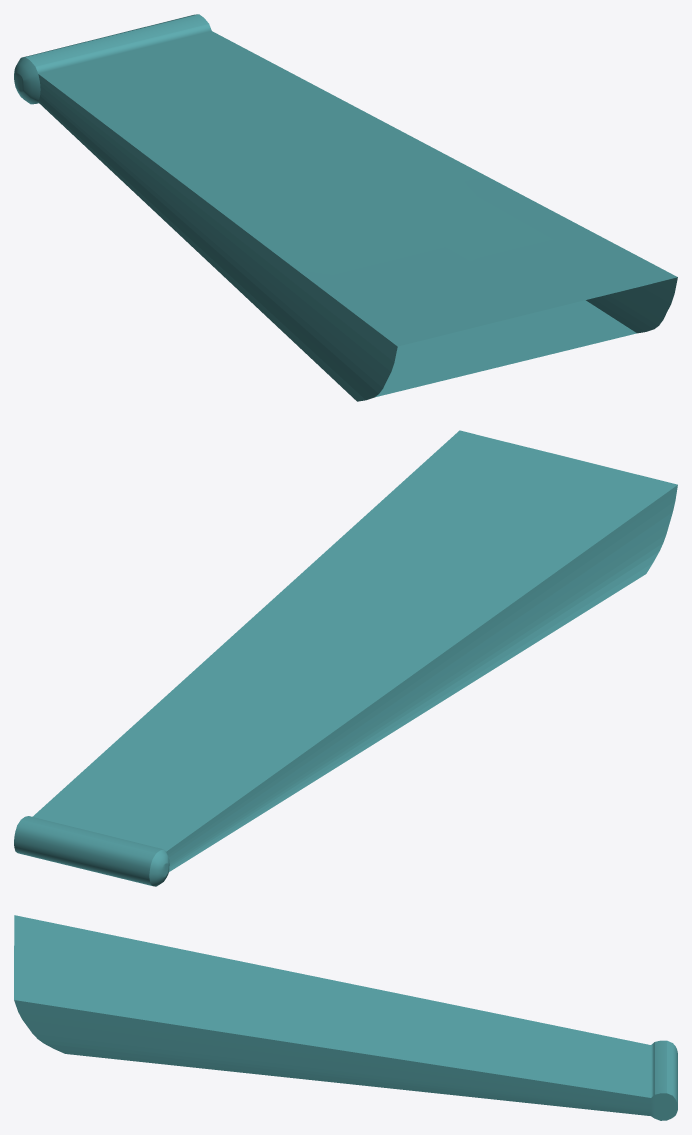
The model's file is Ship_Wing_01.fbx.
The picture shows the model from 3 angles, top to bottom: view 1: azimuth 30°, elevation 25°; view 2: azimuth 150°, elevation 25°; view 3: azimuth 270°, elevation 25°; orthographic projection. The views are drawn at different scales.
Parts seen in each view (by area): view 1: Ship_Wing_01; view 2: Ship_Wing_01; view 3: Ship_Wing_01.
Boxes of the visible parts, <box> form: Ship_Wing_01: <box>14,14,677,401</box>; Ship_Wing_01: <box>14,430,677,886</box>; Ship_Wing_01: <box>14,915,677,1120</box>.
Size of the model in its own units: 1.67 by 0.8562 by 4.77.
